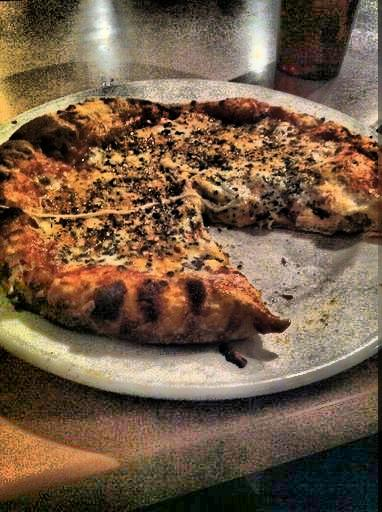pizza: (4, 82, 382, 352)
